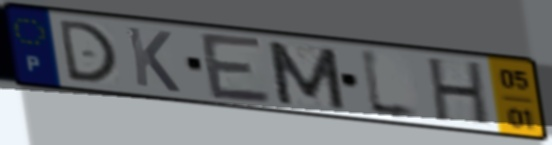D: (55, 17, 121, 84)
E: (197, 30, 277, 107)
H: (426, 56, 493, 129)
K: (123, 23, 184, 95)
L: (356, 44, 427, 126)
M: (263, 38, 350, 113)
